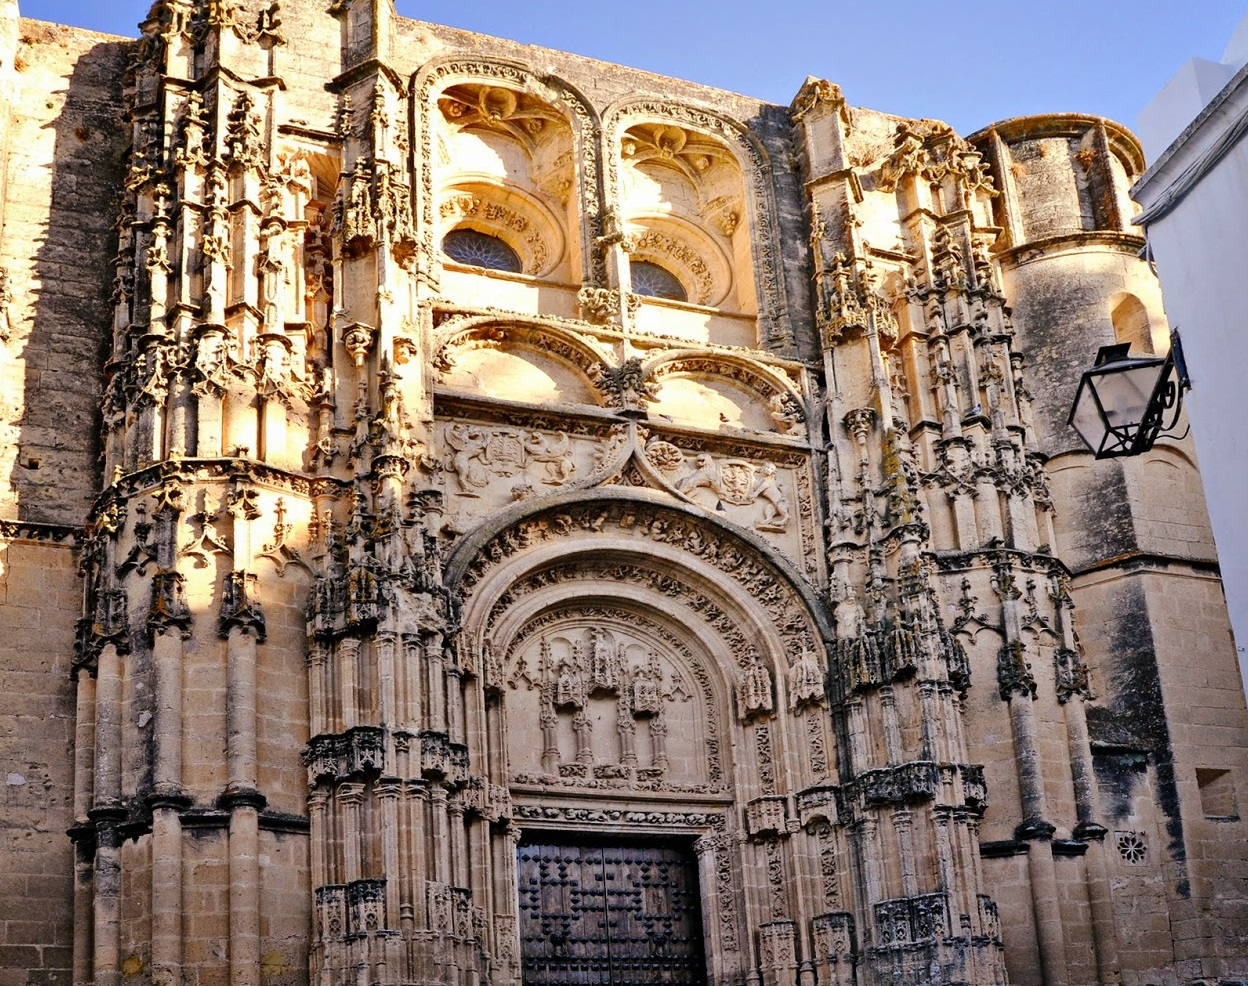arco-conopial: (461, 440, 771, 541)
